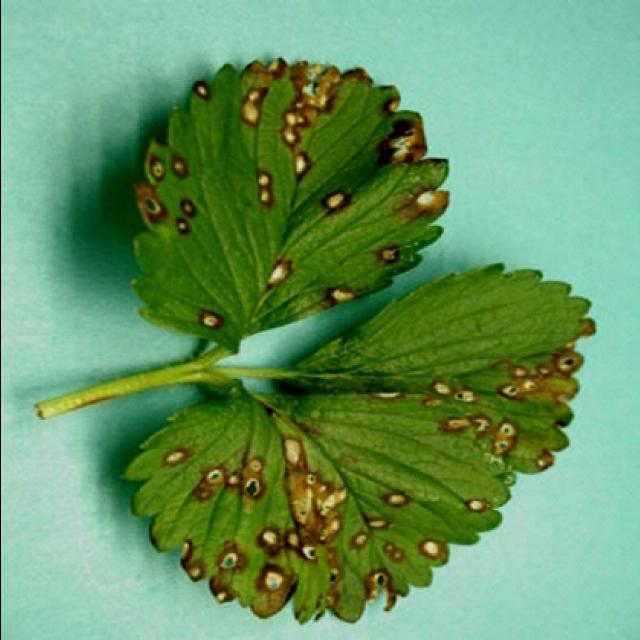Leaf Spot: (114, 379, 512, 625), (128, 56, 451, 354), (276, 260, 597, 487)
